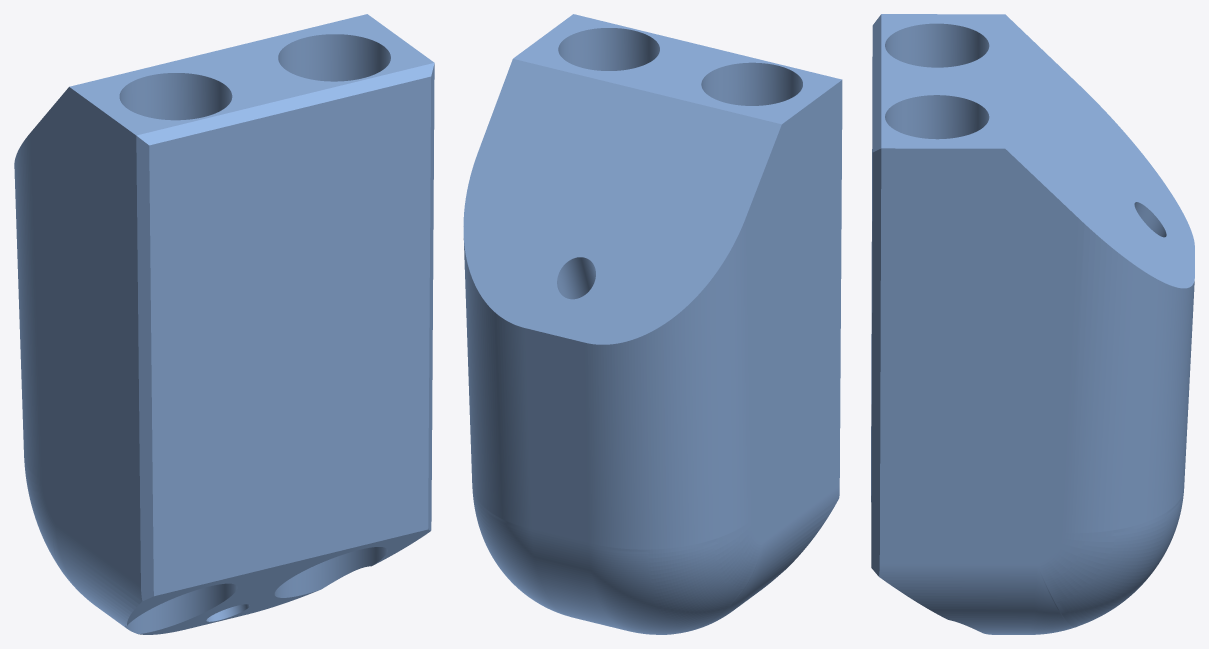
Rendered from dedo_indice_3.dae.
3 renders of one model, left to right at view 1: azimuth 30°, elevation 25°; view 2: azimuth 150°, elevation 25°; view 3: azimuth 270°, elevation 25°, orthographic. The views are drawn at different scales.
Parts seen in each view (by area): view 1: Fingerdesign-All-2.03; view 2: Fingerdesign-All-2.03; view 3: Fingerdesign-All-2.03.
Boxes of the visible parts, x1,y1,x2,y2 form: Fingerdesign-All-2.03: [14, 14, 434, 634]; Fingerdesign-All-2.03: [463, 14, 842, 634]; Fingerdesign-All-2.03: [871, 14, 1194, 634].
Bounding box in the file's own units: 0.0118 × 0.012 × 0.0217.
